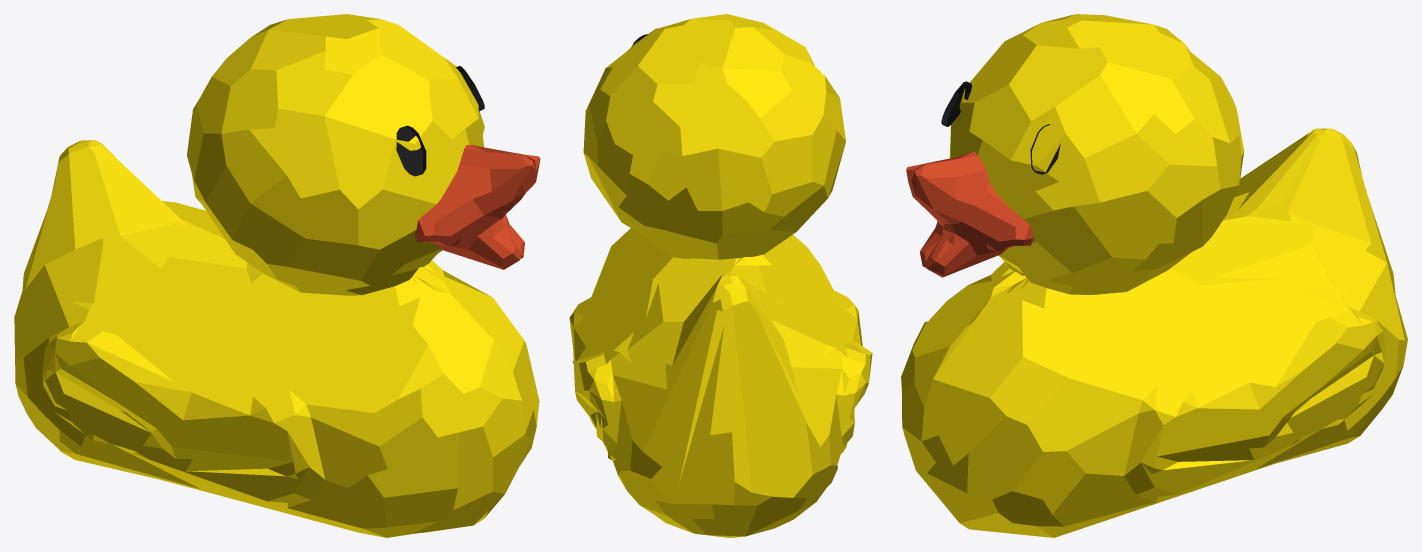
File: duck.gltf
3 views of the same model, side by side, from view 1: azimuth 30°, elevation 25°; view 2: azimuth 150°, elevation 25°; view 3: azimuth 270°, elevation 25° (orthographic). The views are drawn at different scales.
Parts seen in each view (by area): view 1: duck; view 2: duck; view 3: duck.
Boxes of the visible parts, box(x1,y1,x2,y2) form: duck: box(14, 14, 540, 537); duck: box(569, 14, 872, 537); duck: box(901, 14, 1407, 537).
Bounding box in the file's own units: 0.5234 × 0.6391 × 0.6066.
